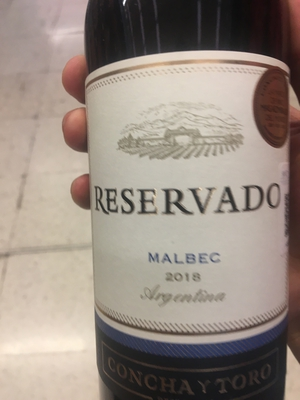reservado malbec: (77, 3, 287, 400)
